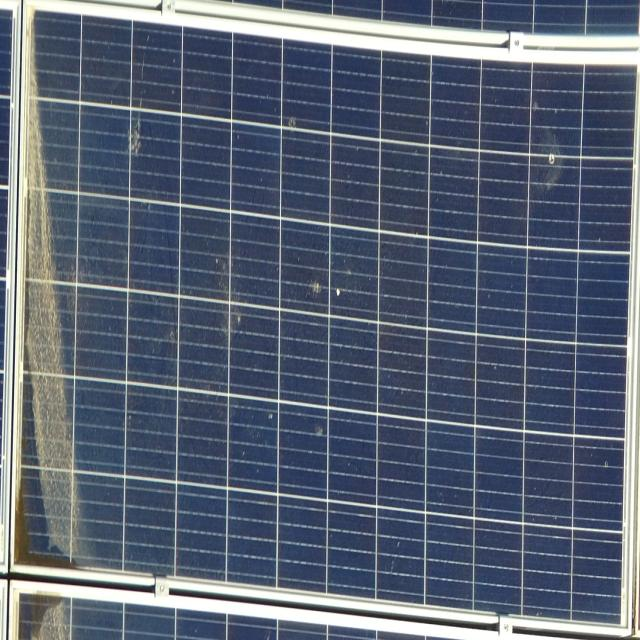Dust: (22, 6, 92, 640), (6, 570, 100, 640)
bird-droppings: (124, 109, 146, 159), (540, 142, 564, 178), (310, 276, 322, 298), (284, 117, 298, 134), (313, 427, 328, 442), (332, 284, 346, 298)
